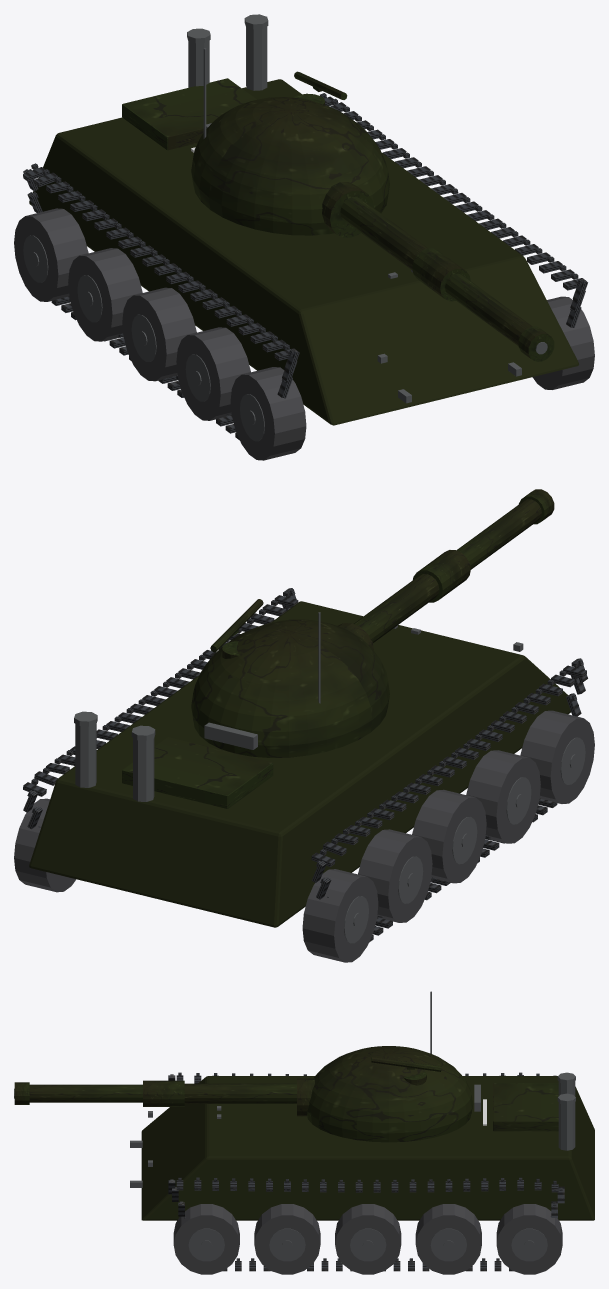
Rendered from jackal_LOD0.glb.
3 renders of one model, top to bottom at view 1: azimuth 30°, elevation 25°; view 2: azimuth 150°, elevation 25°; view 3: azimuth 270°, elevation 25°, orthographic. The views are drawn at different scales.
Visible parts, largest first — view 1: HullMesh, Wheels_L, TurretMesh, TrackL, TrackR, Wheels_R, Gun_tube1, Gun_tube2, Gun_ext, exh1, exh-1, Gun_brk; view 2: HullMesh, Wheels_L, TurretMesh, TrackL, TrackR, Gun_tube1, Gun_tube2, Wheels_R, Gun_ext, exh-1, exh1; view 3: HullMesh, Wheels_R, TurretMesh, TrackR, Gun_tube1, Gun_tube2, Gun_ext, exh1.
Part boxes in pixels (x1,y1,x2,y2): HullMesh: (29, 78, 578, 425); Wheels_L: (14, 208, 306, 460); TurretMesh: (191, 48, 389, 237); TrackL: (23, 163, 299, 440); TrackR: (320, 93, 587, 327); Wheels_R: (532, 296, 594, 389); Gun_tube1: (340, 197, 427, 270); Gun_tube2: (445, 274, 546, 358); Gun_ext: (412, 248, 470, 301); exh1: (246, 26, 267, 90); exh-1: (188, 40, 209, 87); Gun_brk: (518, 326, 554, 361); HullMesh: (29, 601, 578, 927); Wheels_L: (302, 710, 594, 962); TurretMesh: (191, 599, 389, 757); TrackL: (311, 658, 587, 942); TrackR: (23, 588, 298, 829); Gun_tube1: (353, 574, 439, 642); Gun_tube2: (456, 499, 541, 569); Wheels_R: (14, 798, 75, 892); Gun_ext: (413, 550, 470, 602); exh-1: (133, 738, 154, 801); exh1: (75, 724, 96, 787); HullMesh: (130, 1076, 594, 1220); Wheels_R: (173, 1204, 562, 1274); TurretMesh: (297, 991, 480, 1142); TrackR: (168, 1177, 564, 1271); Gun_tube1: (184, 1083, 296, 1103); Gun_tube2: (29, 1084, 142, 1102); Gun_ext: (143, 1080, 184, 1106); exh1: (558, 1102, 575, 1150).
Bounding box in the file's own units: 3.36 × 2.71 × 7.02.
Materials: 5 (3 with a texture image).
